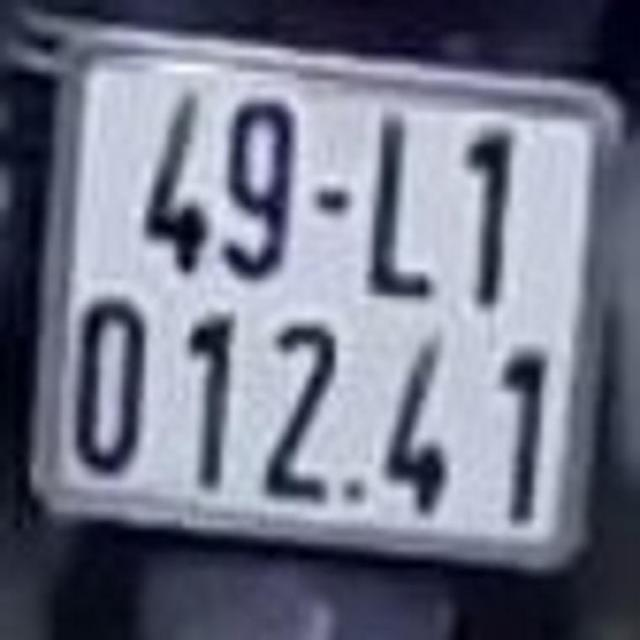0: (66, 268, 146, 472)
1: (456, 106, 535, 312), (487, 322, 561, 538), (172, 305, 246, 482)
2: (267, 300, 341, 519)
4: (139, 76, 213, 286), (385, 319, 458, 528)
9: (222, 76, 302, 288)
L: (363, 100, 441, 308)
